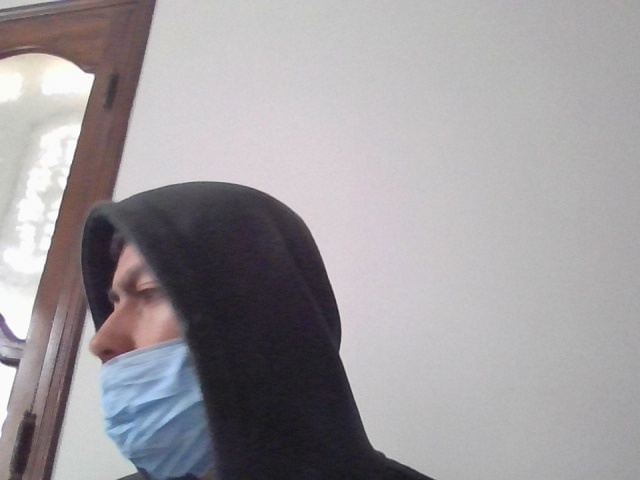mask_weared_incorrect: (72, 221, 249, 480)
